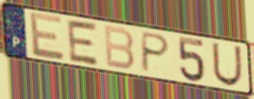5: (176, 35, 207, 83)
B: (102, 24, 136, 72)
E: (28, 10, 67, 62), (66, 18, 101, 68)
P: (139, 30, 172, 75)
U: (211, 41, 244, 88)
